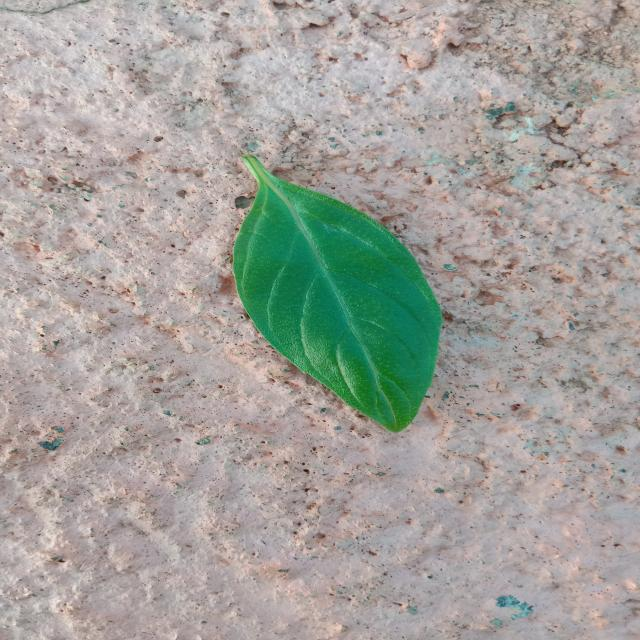kamakasturi: (232, 155, 442, 432)
